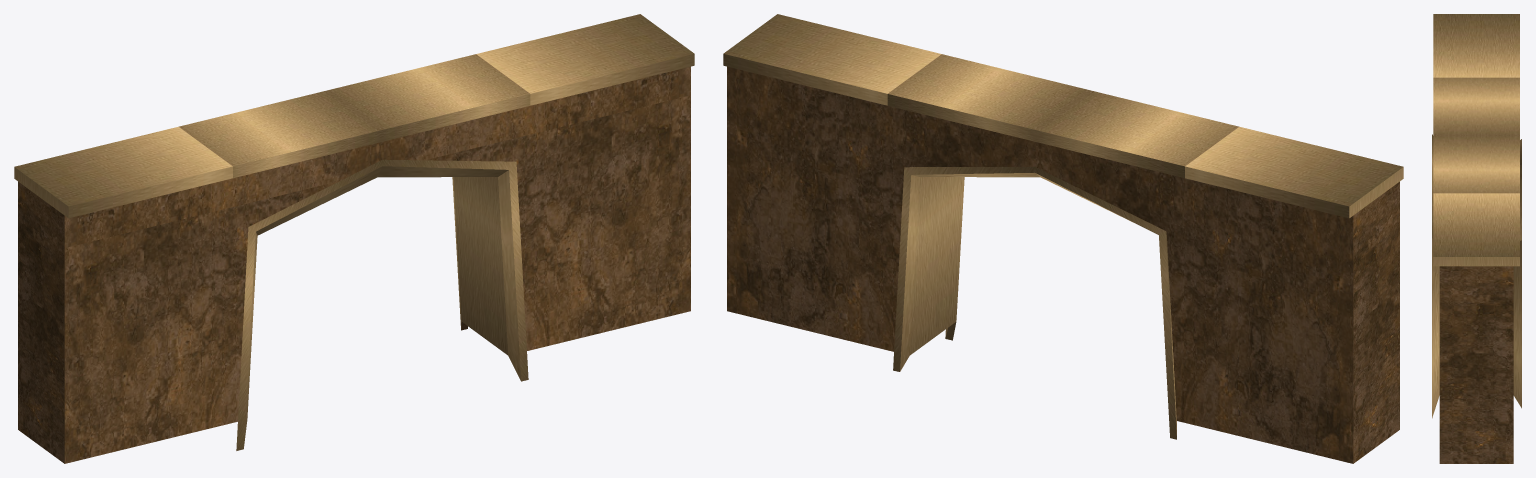
Rendered from hubfrontgate.gltf.
The picture shows the model from 3 angles, left to right: view 1: azimuth 30°, elevation 25°; view 2: azimuth 150°, elevation 25°; view 3: azimuth 270°, elevation 25°; orthographic projection. The views are drawn at different scales.
Visible parts, largest first — view 1: Cube; view 2: Cube; view 3: Cube.
Boxes of the visible parts, left/top/right/bottom form: Cube: left=14, top=14, right=694, bottom=463; Cube: left=723, top=14, right=1403, bottom=463; Cube: left=1432, top=14, right=1521, bottom=463.
Size of the model in its own units: 15.51 by 6.74 by 2.42.
Materials: 1 (1 with a texture image).
